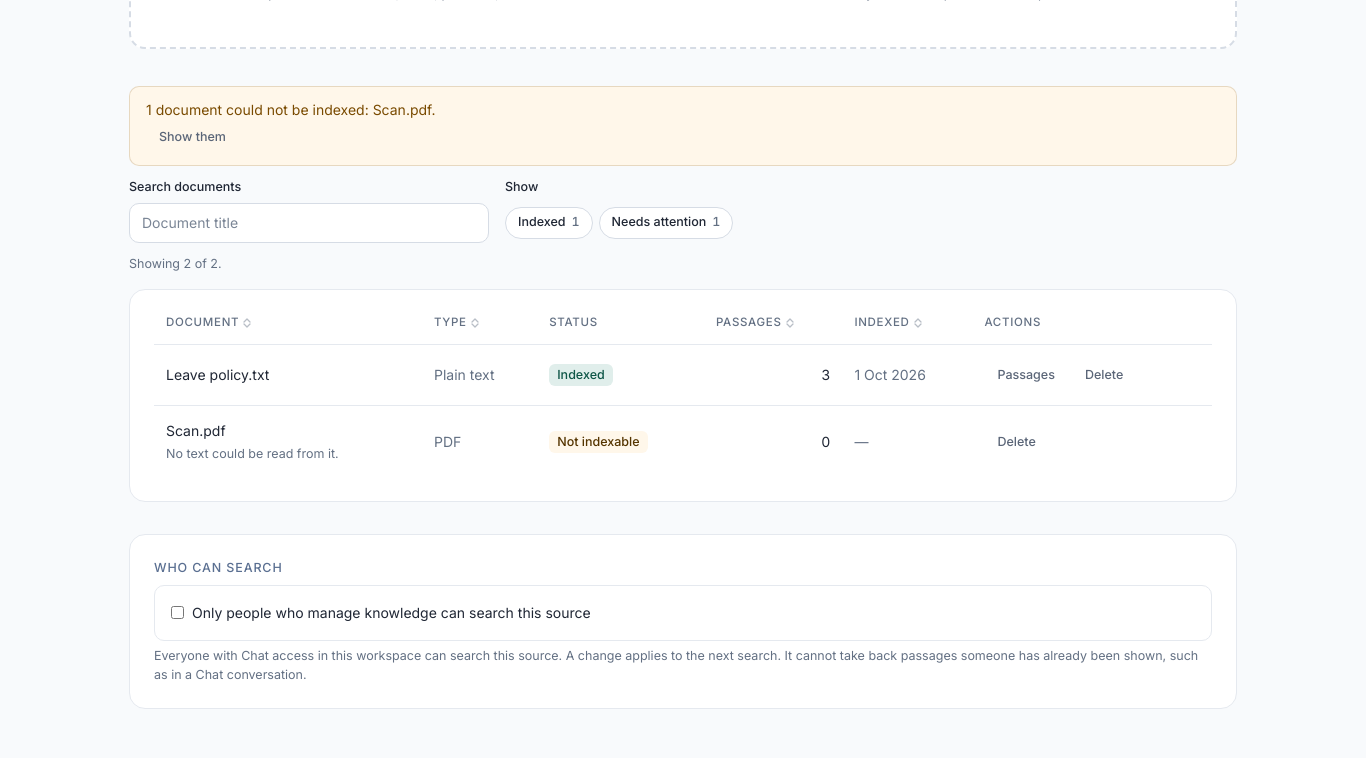
Test case: the passages of one document › says so when a document cannot be read, rather than showing nothing
(page scrolled)
Expected: the text "Leave policy.txt" is shown, [166,366,269,383]
Click the button with aria-label "View passages in Leave policy.txt" at (1026, 374), box [984,358,1068,390]
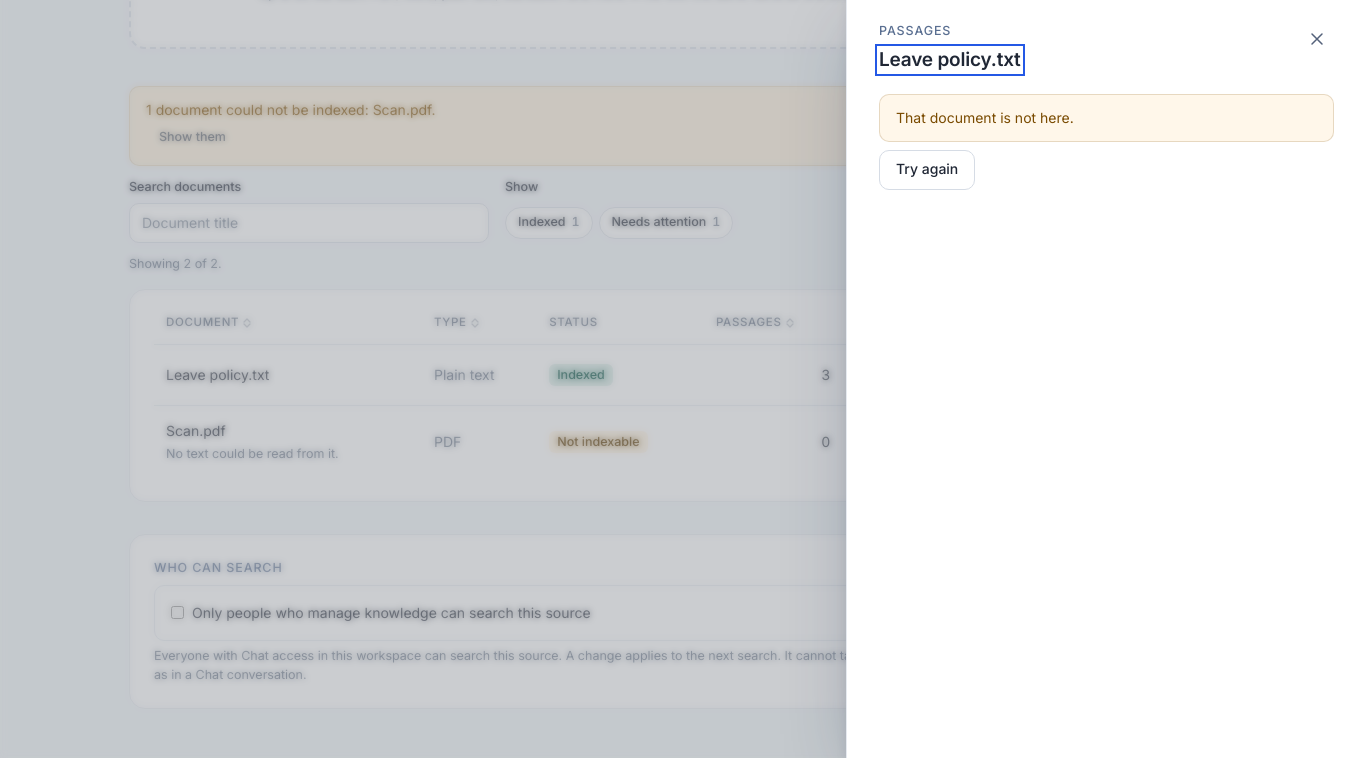
Result: the text "That document is not here." is shown at [896,109,1074,126]
